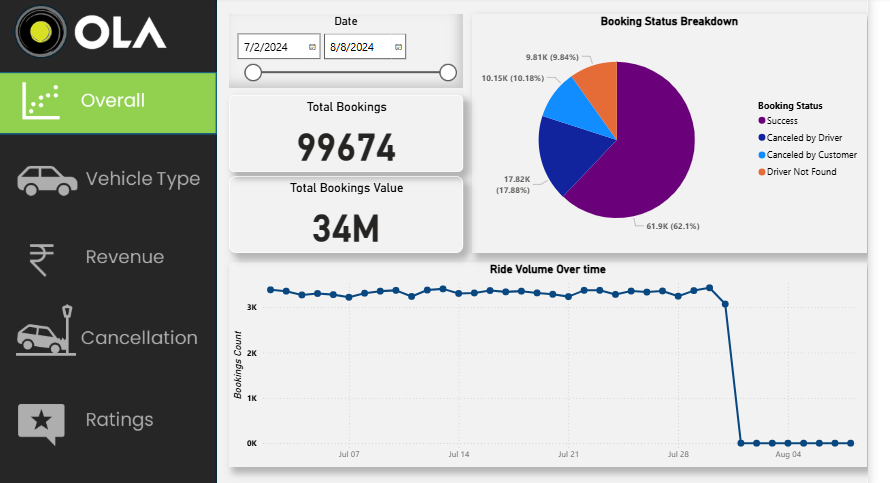

The page's visual inventory and layout, read from the dashboard file:
{"tool":"powerbi","page":{"name":"Overall","canvas":[1280,720],"ordinal":0},"visuals":[{"type":"actionButton","box":[0,201.3,324.7,110.2],"z":0},{"type":"lineChart","title":"Ride Volume Over time","fields":{"Category":["July.Date"],"Y":["CountNonNull(July.Booking_ID)"]},"box":[342.4,389.4,937.5,301.2],"z":1000},{"type":"pieChart","title":"Booking Status Breakdown","fields":{"Category":["July.Booking_Status"],"Y":["CountNonNull(July.Booking_Status)"]},"box":[699.4,25,580.4,351.2],"z":2000},{"type":"slicer","title":"Date","fields":{"Values":["July.Date"]},"box":[342.4,25,343.8,108.7],"z":3000},{"type":"card","title":"Total Bookings","fields":{"Values":["CountNonNull(July.Booking_ID)"]},"box":[342.4,144,343.8,113.1],"z":4000},{"type":"card","title":"Total Bookings Value","fields":{"Values":["Sum(July.Booking_Value)"]},"box":[342.4,263,343.8,113.1],"z":5000}]}

Visuals, with their boxes on the page's 1280x720 design canvas (x1, y1, x2, y2). These are canvas units, not pixel positions in the 890x483 screenshot, which may show the page scaled, cropped or inside an application window:
actionButton: crop(0, 201, 325, 312)
"Ride Volume Over time" lineChart: crop(342, 389, 1280, 691)
"Booking Status Breakdown" pieChart: crop(699, 25, 1280, 376)
"Date" slicer: crop(342, 25, 686, 134)
"Total Bookings" card: crop(342, 144, 686, 257)
"Total Bookings Value" card: crop(342, 263, 686, 376)
